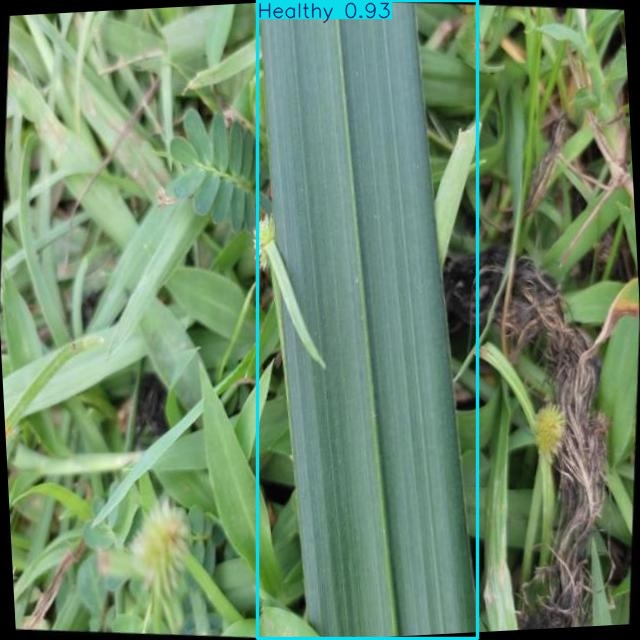Healthy: (257, 0, 477, 639)
